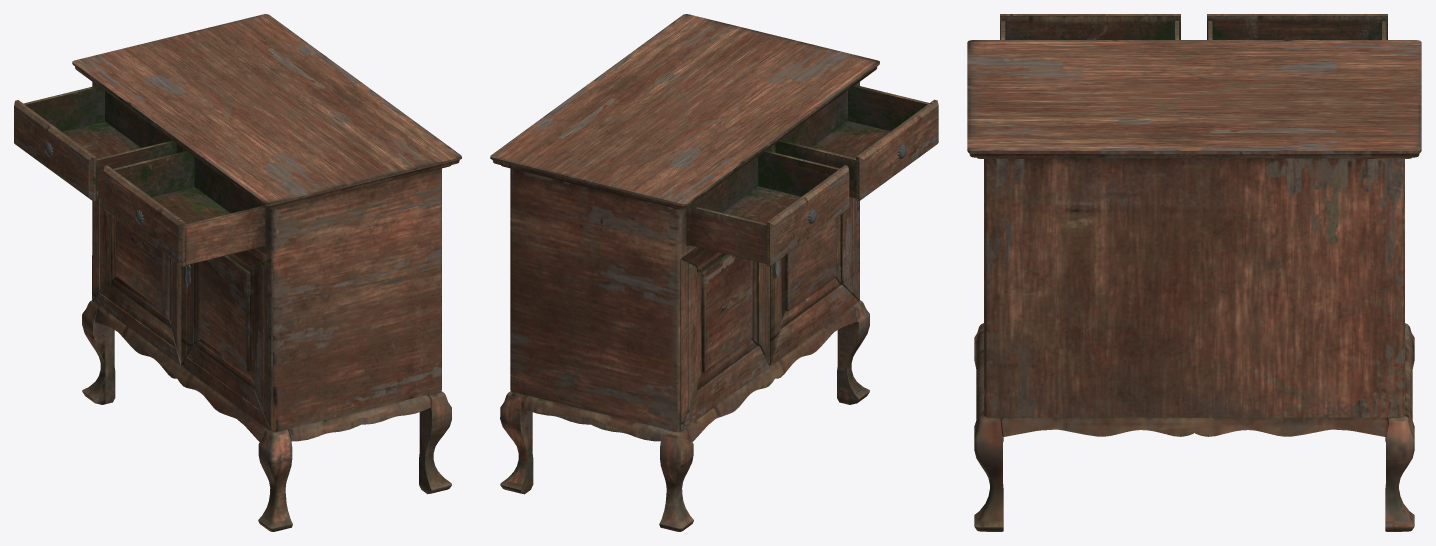
Rendered from cabinet_old.glb.
The picture shows the model from 3 angles, left to right: view 1: azimuth 30°, elevation 25°; view 2: azimuth 150°, elevation 25°; view 3: azimuth 270°, elevation 25°; orthographic projection. The views are drawn at different scales.
Visible parts, largest first — view 1: Cube.031, Cube.032, Cube.034, Cube.033, Cube.035; view 2: Cube.031, Cube.035, Cube.033, Cube.034, Cube.032; view 3: Cube.031, Cube.033, Cube.034.
Boxes of the visible parts, left/top/right/bottom form: Cube.031: left=72, top=14, right=461, bottom=531; Cube.032: left=181, top=248, right=270, bottom=430; Cube.034: left=103, top=151, right=265, bottom=266; Cube.033: left=14, top=85, right=176, bottom=201; Cube.035: left=92, top=198, right=181, bottom=365; Cube.031: left=490, top=14, right=879, bottom=531; Cube.035: left=680, top=247, right=769, bottom=430; Cube.033: left=686, top=150, right=849, bottom=266; Cube.034: left=775, top=85, right=938, bottom=200; Cube.032: left=770, top=197, right=859, bottom=365; Cube.031: left=967, top=40, right=1421, bottom=531; Cube.033: left=1207, top=14, right=1387, bottom=39; Cube.034: left=1000, top=14, right=1180, bottom=39.
Bounding box in the file's own units: 3.2 × 3.77 × 3.98.
Materials: 1 (1 with a texture image).
